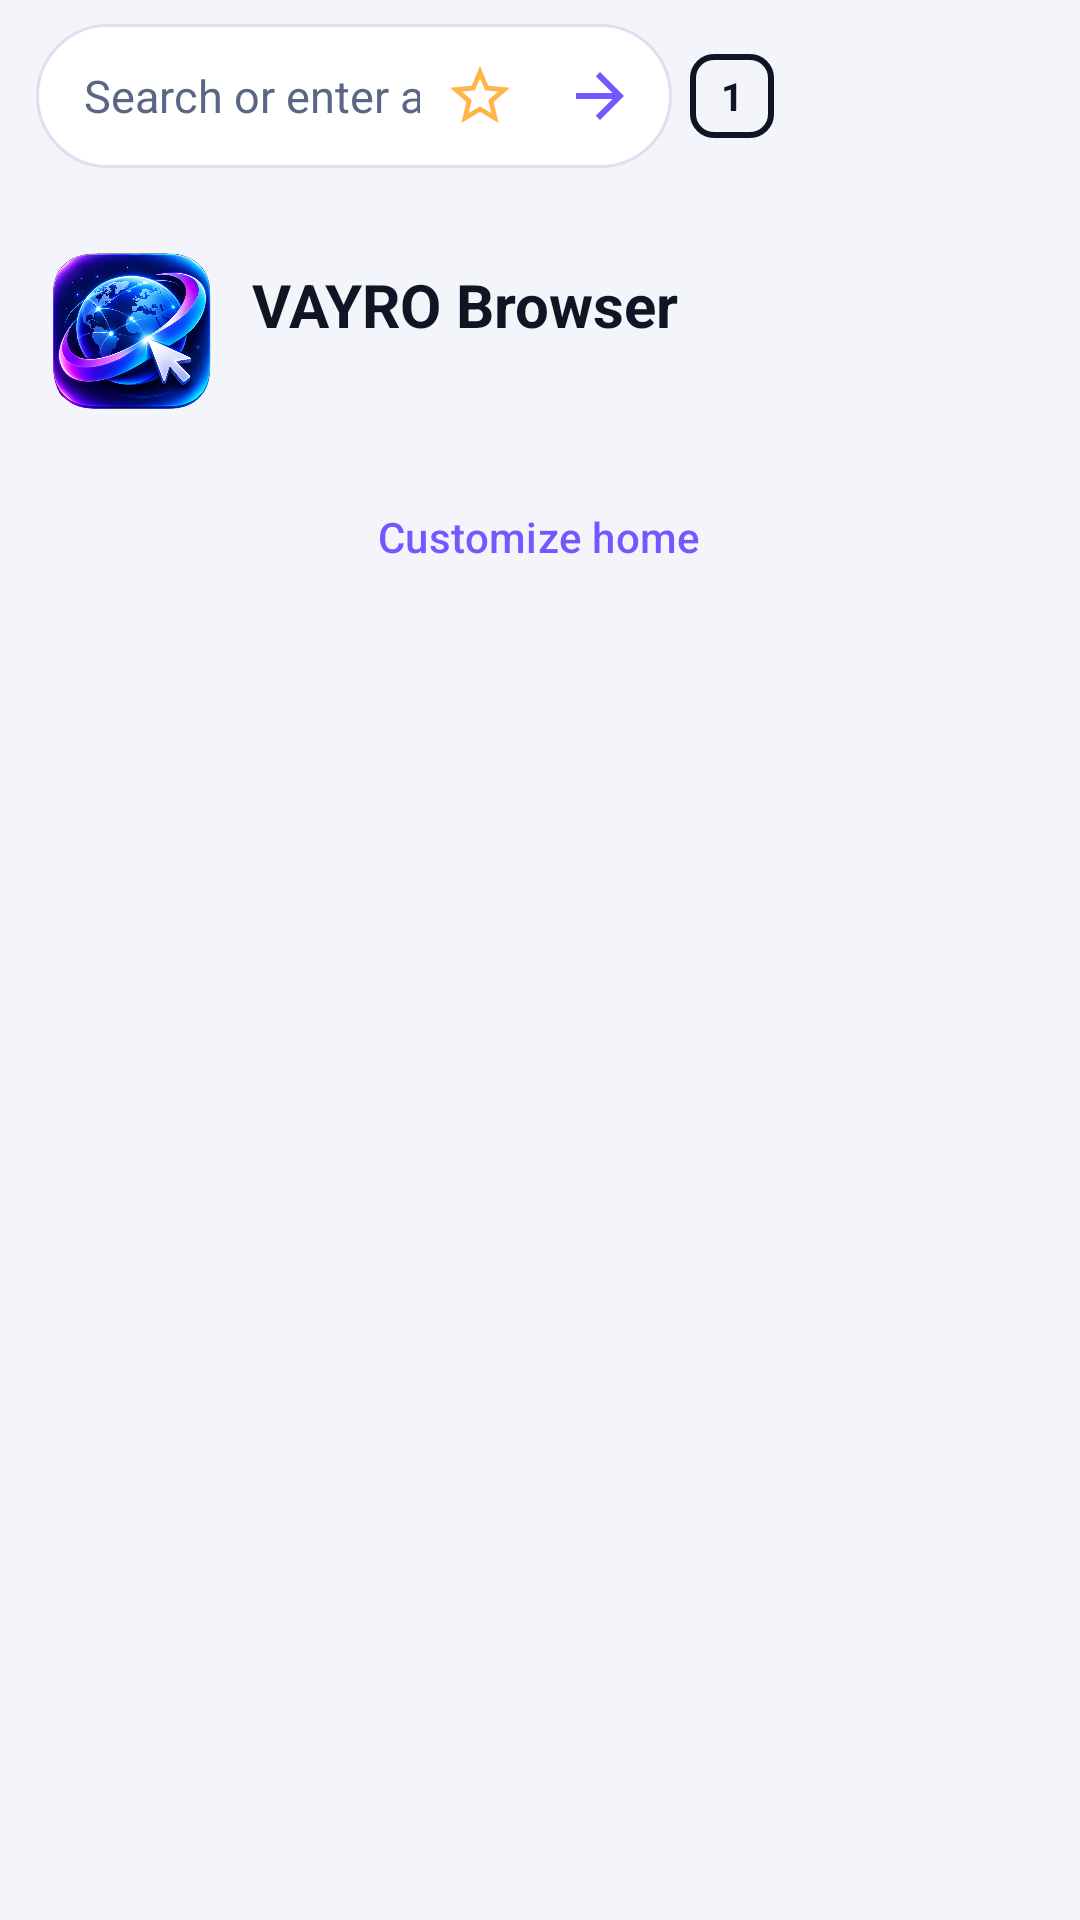

Icons on this 1080px x 1920px Android screen, each with its box as (x1=x1, y1=y1, x2=x2, y2=y2):
Bookmark this page: (x1=450, y1=66, x2=510, y2=123)
Open: (x1=576, y1=72, x2=624, y2=120)
